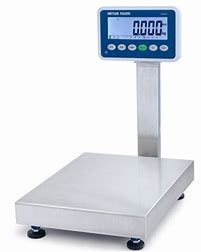Industrial Scale: (14, 6, 197, 252)
